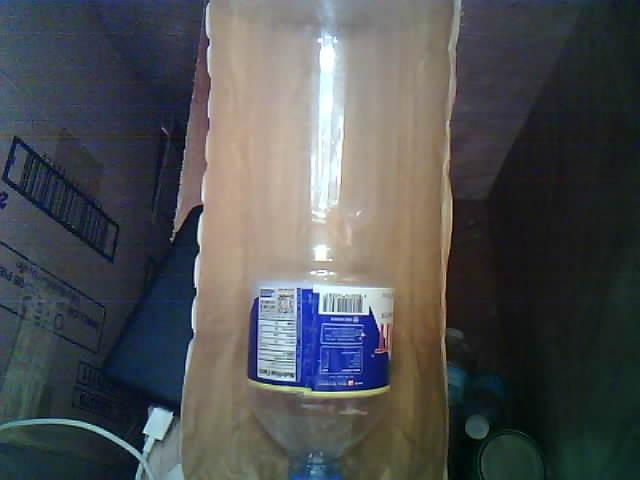large_bottle: (236, 0, 410, 480)
